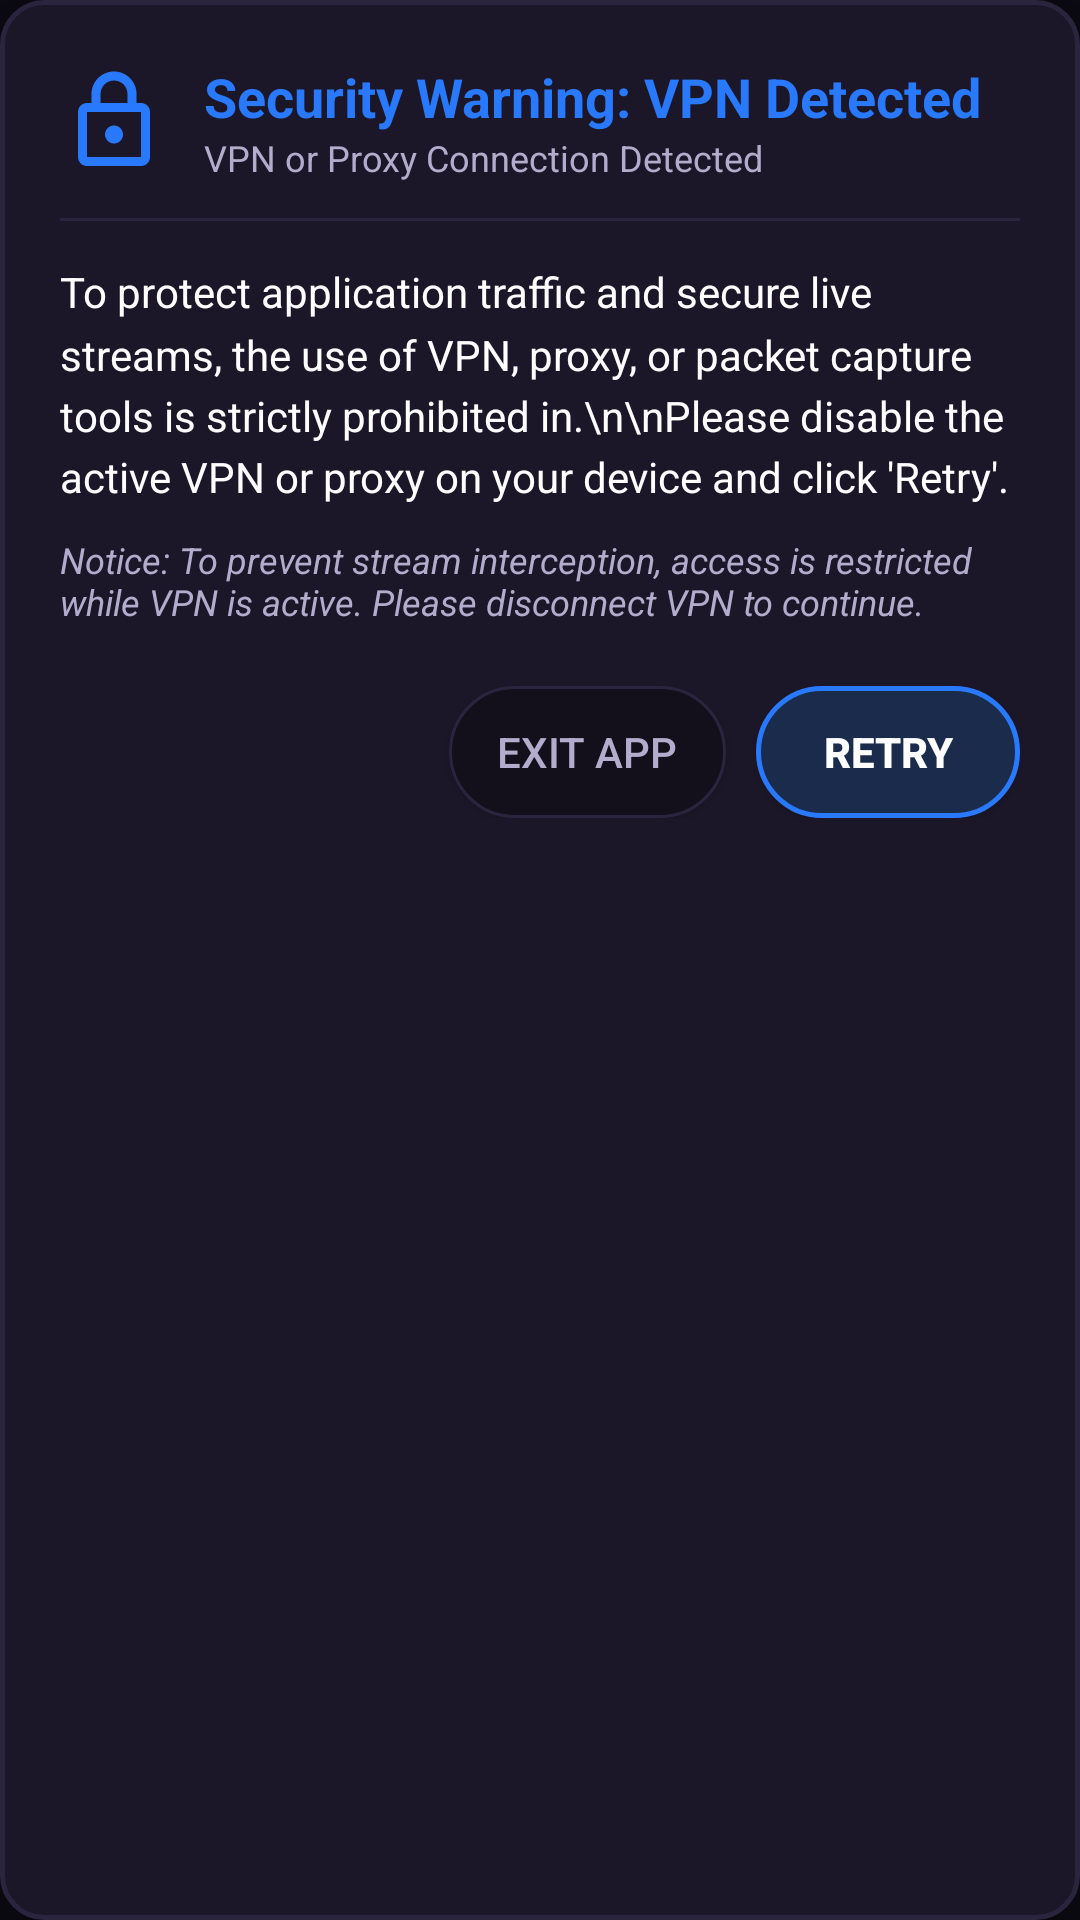

Point at icon controls on the screen. Image size 1080 x 1920, points as (x=x, y=y).
Security Alert: (x=114, y=118)
